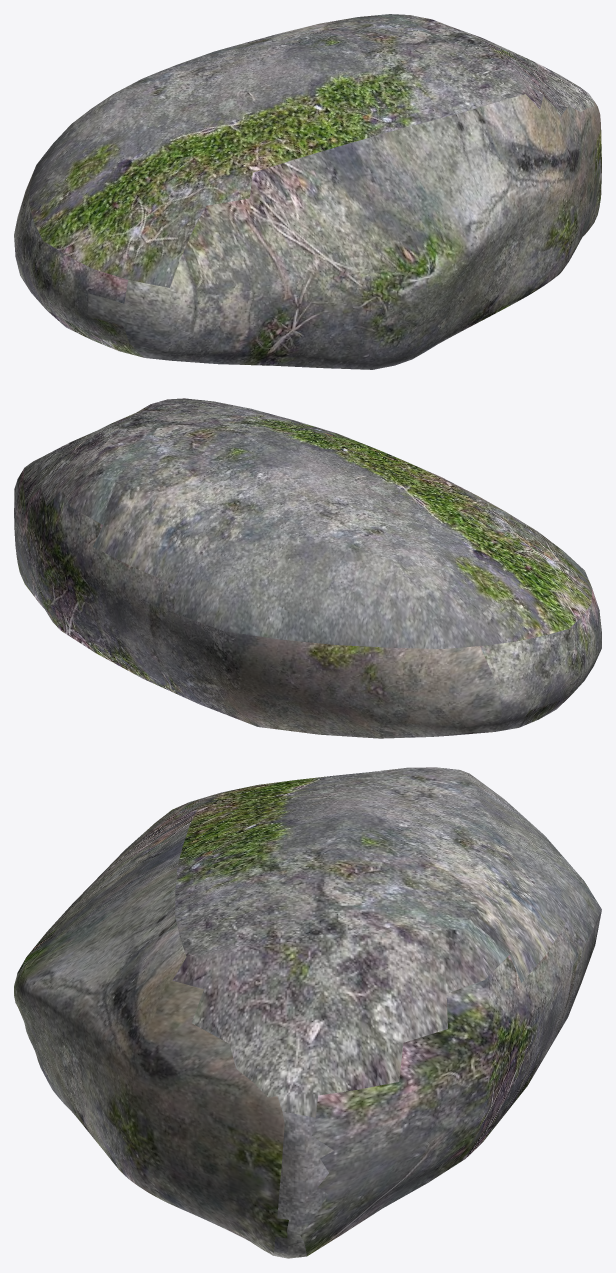
Rendered from Piedra 5.glb.
The picture shows the model from 3 angles, top to bottom: view 1: azimuth 30°, elevation 25°; view 2: azimuth 150°, elevation 25°; view 3: azimuth 270°, elevation 25°; orthographic projection. The views are drawn at different scales.
Visible parts, largest first — view 1: Piedra 5; view 2: Piedra 5; view 3: Piedra 5.
Boxes of the visible parts, x1,y1,x2,y2 form: Piedra 5: (14,14,601,369); Piedra 5: (14,398,601,738); Piedra 5: (14,767,601,1258).
Size of the model in its own units: 1.65 by 0.6506 by 1.17.
1 material, 1 textured.
